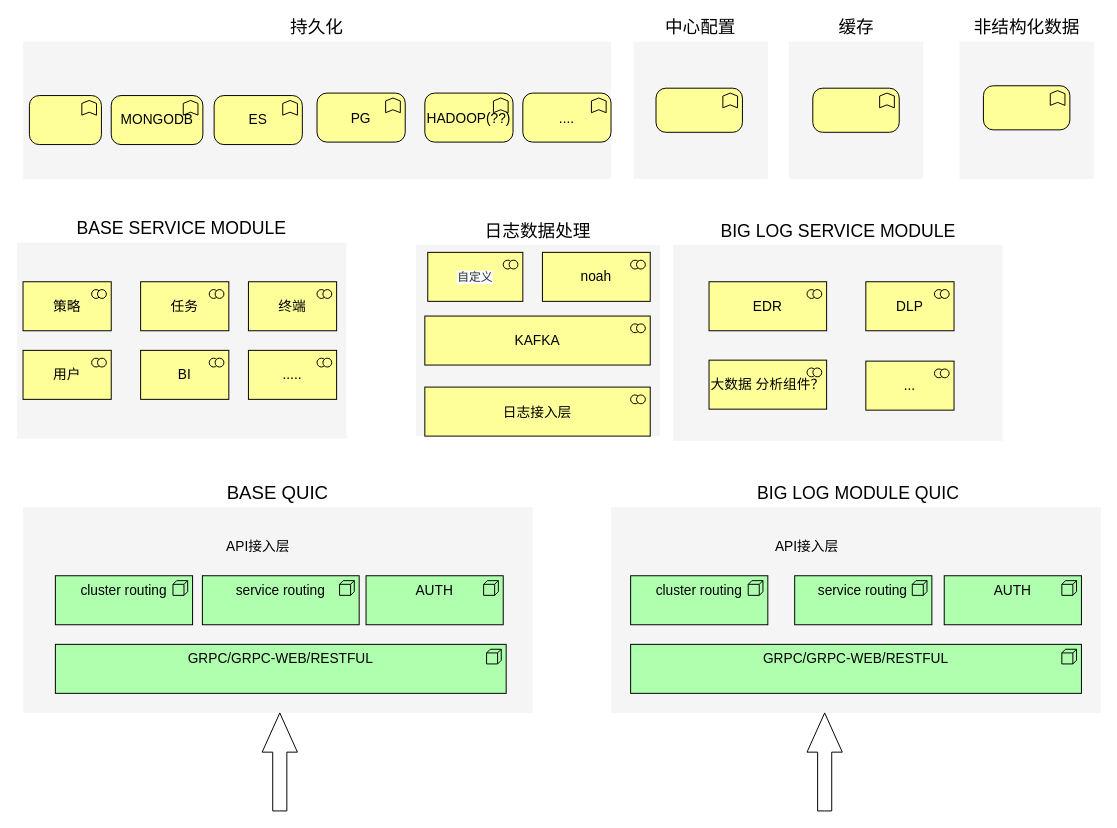
The diagram is 1117 pixels wide and 828 high, and some of its shapes have lost their labels. The shapes that lost their labels are listed below. From the top down, each one's centre as x and y in pixels, then its label:
At point (64, 120): "CK".
At point (698, 109): "ETCD".
At point (855, 109): "REDIS".
At point (1026, 107): "S3".
